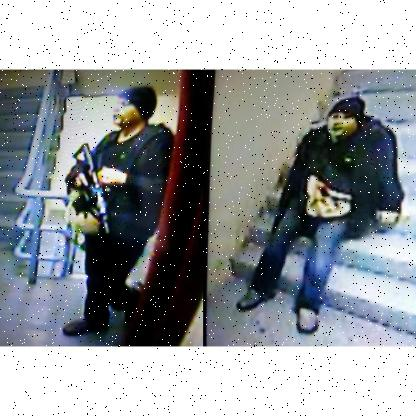gun: (65, 142, 113, 238)
